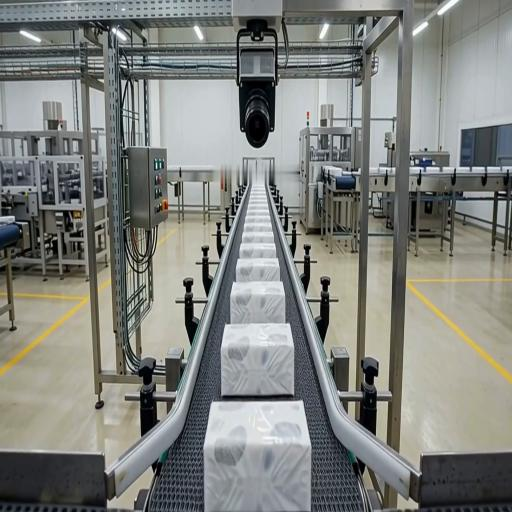good: (204, 401, 311, 511), (221, 324, 294, 396), (231, 282, 285, 323), (236, 258, 279, 282), (239, 243, 276, 258), (242, 232, 274, 243), (244, 222, 273, 232), (246, 206, 270, 218), (245, 214, 270, 224)
